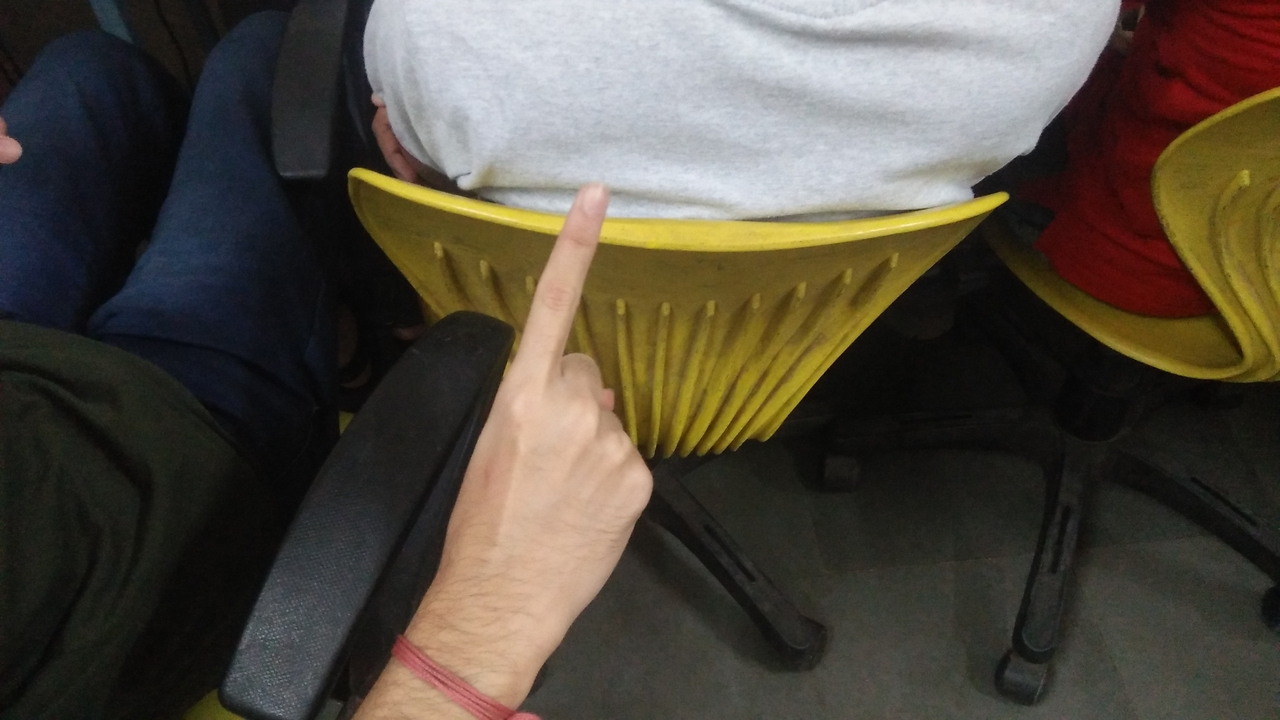fingertip: (558, 172, 618, 228)
